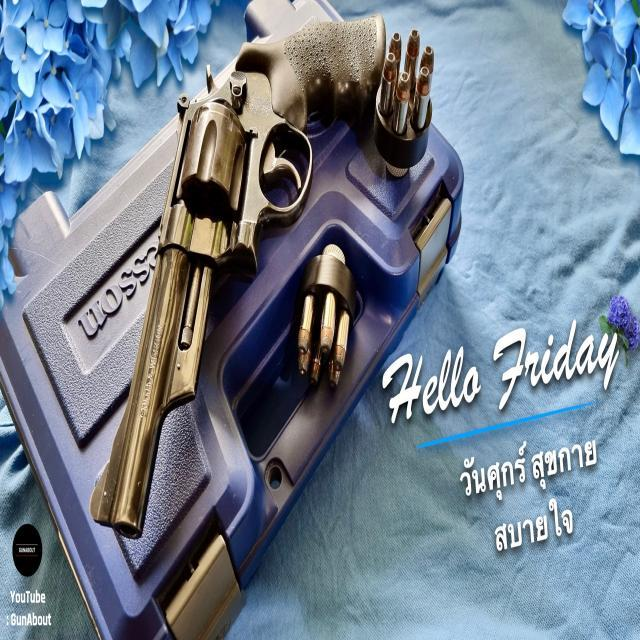revolver: (93, 0, 460, 542)
